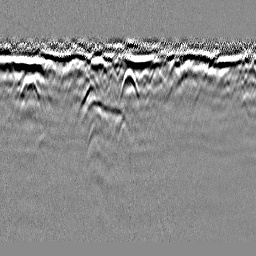cavity: (118, 66, 139, 101)
